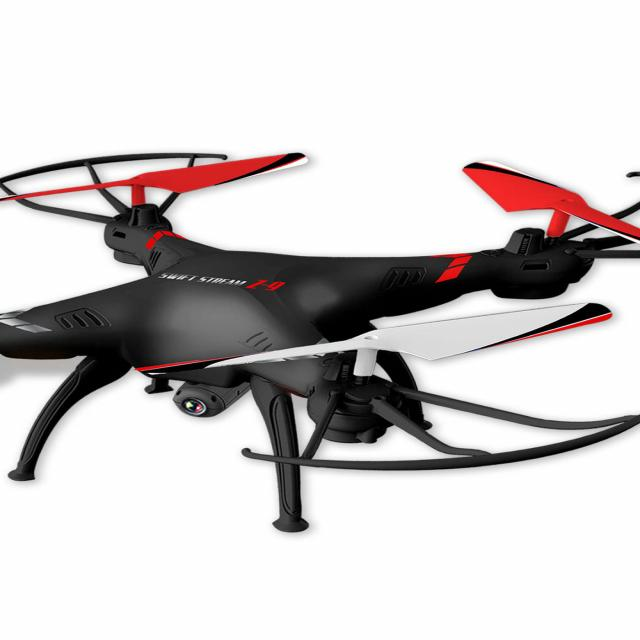drone: (0, 141, 640, 510)
